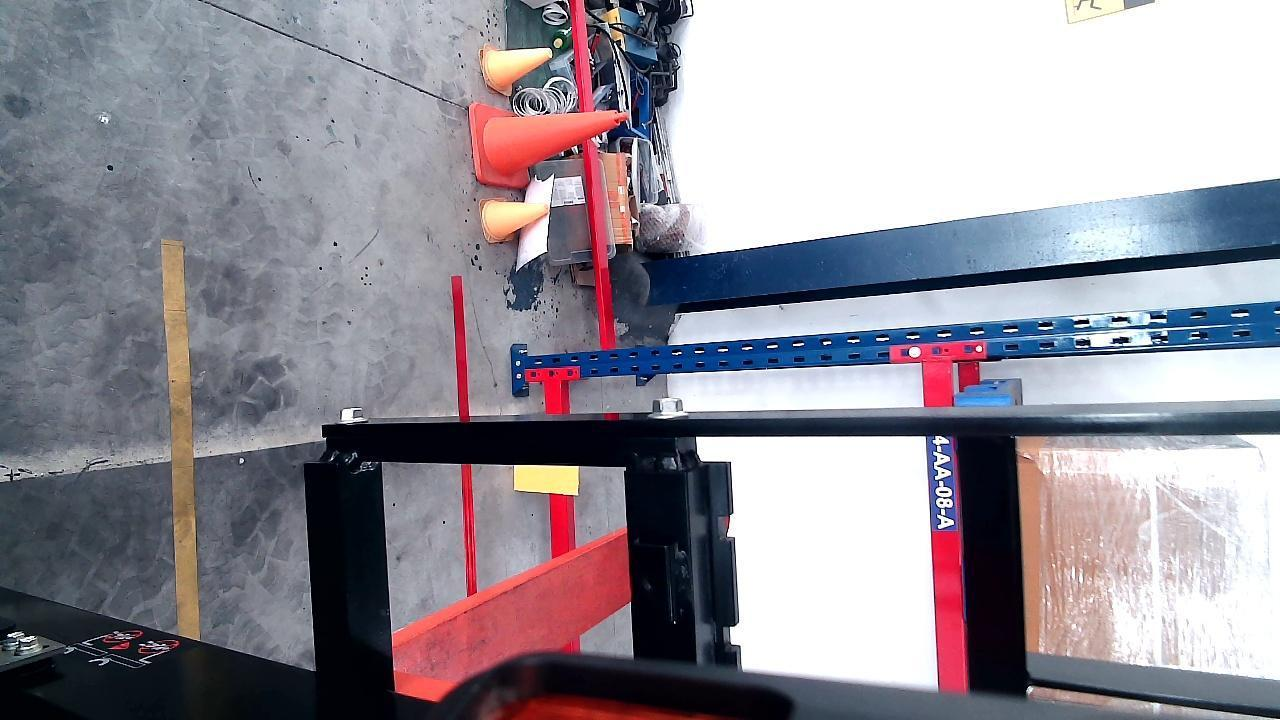h_rack: (928, 367, 968, 687), (541, 372, 579, 557)
orange_strip: (514, 464, 578, 492)
red_line: (448, 267, 478, 596)
yellow_line: (163, 236, 199, 641)
